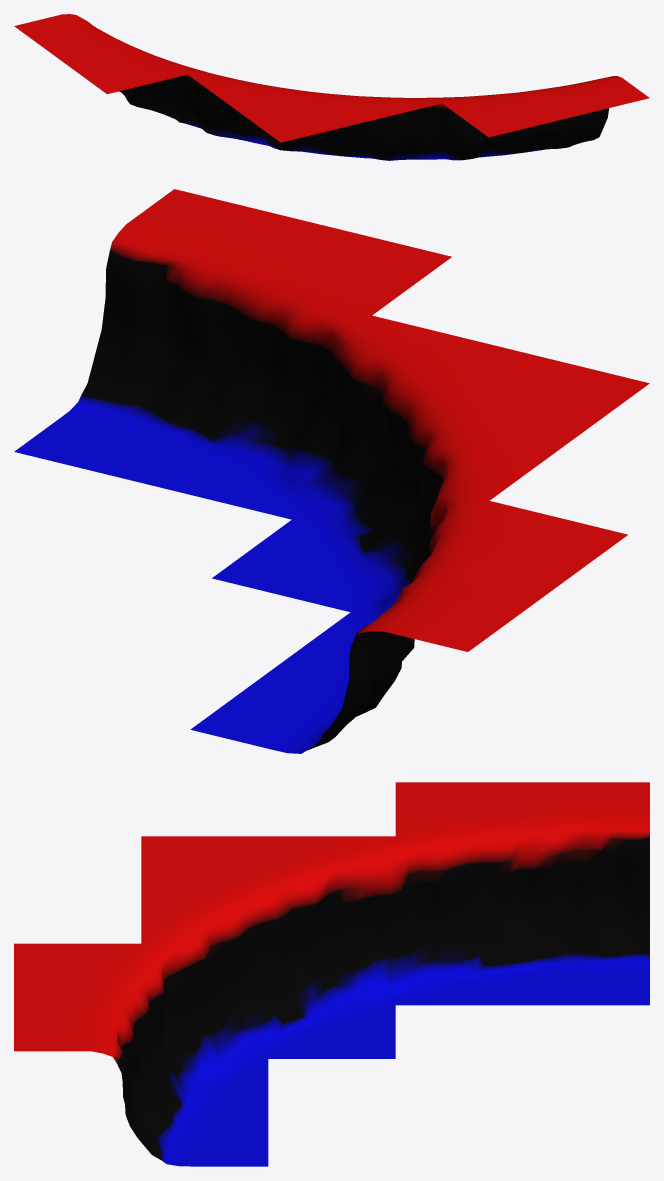
File: RiveCliff05A Foreground.fbx
3 renders of one model, top to bottom at view 1: azimuth 30°, elevation 25°; view 2: azimuth 150°, elevation 25°; view 3: azimuth 270°, elevation 25°, orthographic. The views are drawn at different scales.
Visible parts, largest first — view 1: RiveCliff05A Foreground; view 2: RiveCliff05A Foreground; view 3: RiveCliff05A Foreground.
Part boxes in pixels (left/top/right/bottom): RiveCliff05A Foreground: left=14, top=14, right=649, bottom=160; RiveCliff05A Foreground: left=14, top=189, right=649, bottom=753; RiveCliff05A Foreground: left=14, top=782, right=649, bottom=1166.
Bounding box in the file's own units: 5 × 1 × 5.
